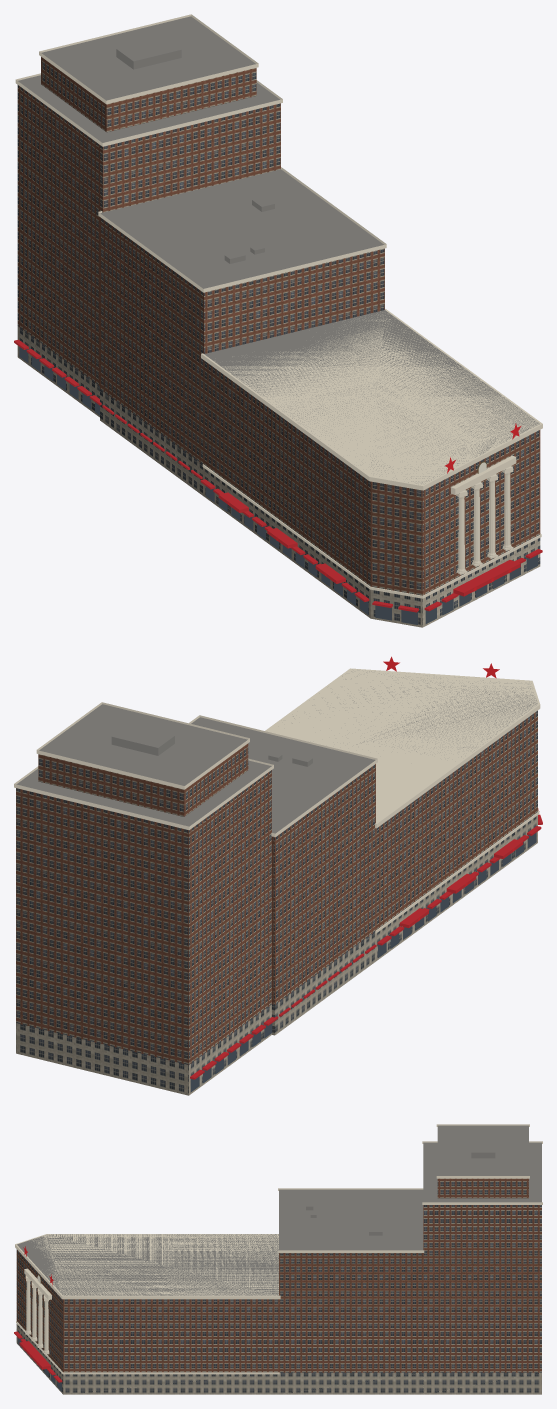
File: macys_herald_square.glb
3 renders of one model, top to bottom at view 1: azimuth 30°, elevation 25°; view 2: azimuth 150°, elevation 25°; view 3: azimuth 270°, elevation 25°, orthographic. The views are drawn at different scales.
Visible parts, largest first — view 1: macys_herald_square; view 2: macys_herald_square; view 3: macys_herald_square.
Part boxes in pixels (<box>): macys_herald_square: <box>14,14,542,627</box>; macys_herald_square: <box>14,656,542,1095</box>; macys_herald_square: <box>14,1124,542,1394</box>.
Size of the model in its own units: 64.21 by 101 by 220.
3 materials, 3 textured.
